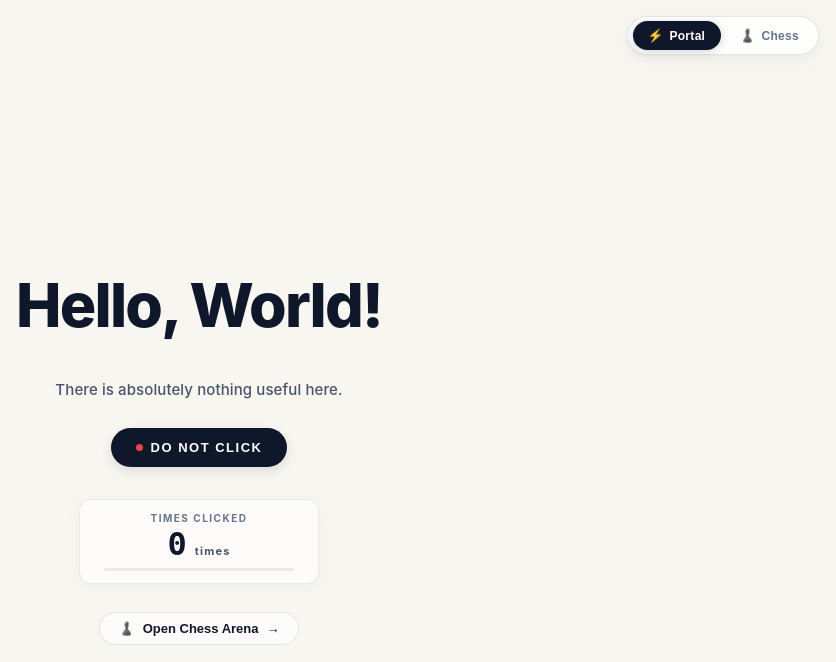
Test case: clicking the button increments counter and changes message at milestone 1
The width and height of the screenshot is (836, 662).
Click the button "DO NOT CLICK": (199, 448) [110,428,287,467]
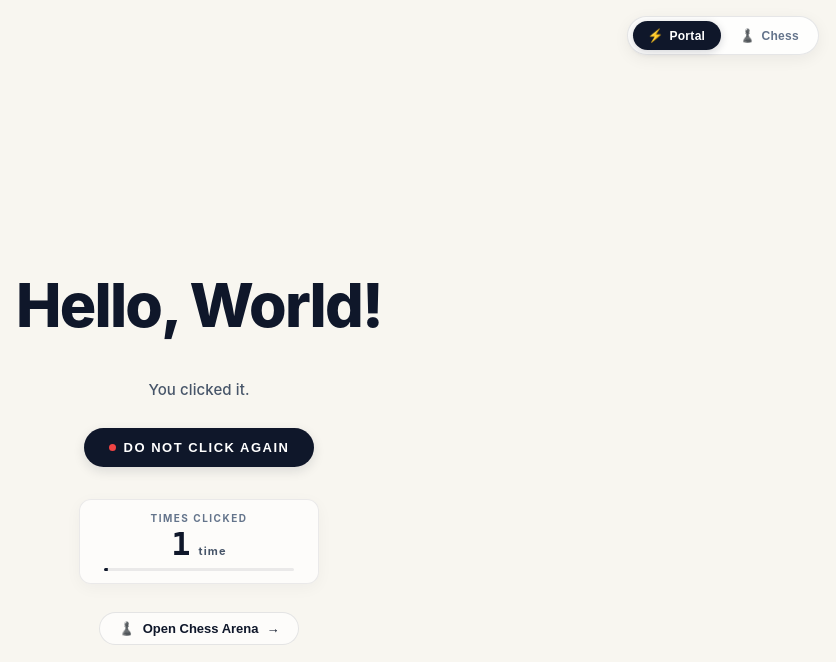
Expected: the heading "Hello, World!" is shown, [16,272,382,338]
Expected: the text "1" is shown, [171,528,190,560]
Expected: the text "You clicked it." is shown, [148,379,250,400]
